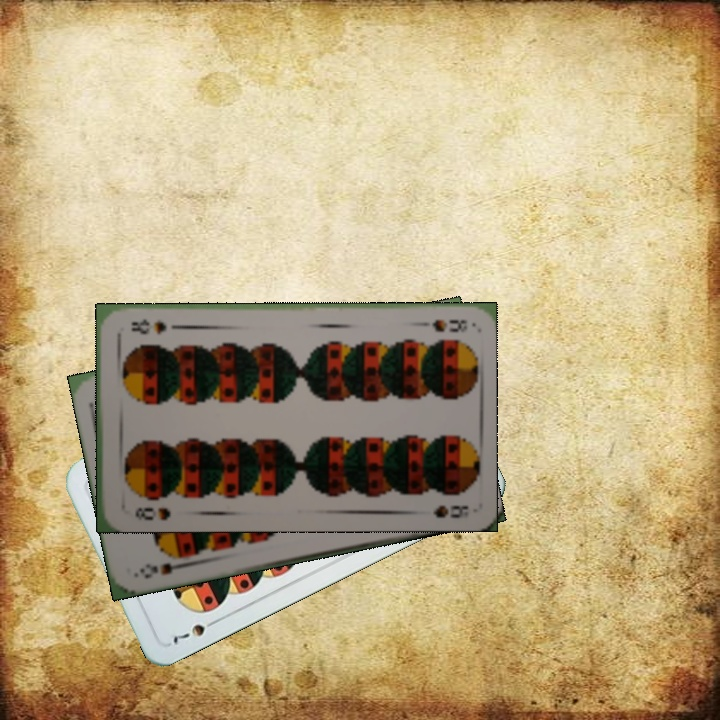S7: (168, 615, 221, 648)
S8: (411, 316, 470, 335), (130, 504, 174, 523)
S9: (135, 558, 192, 581)
